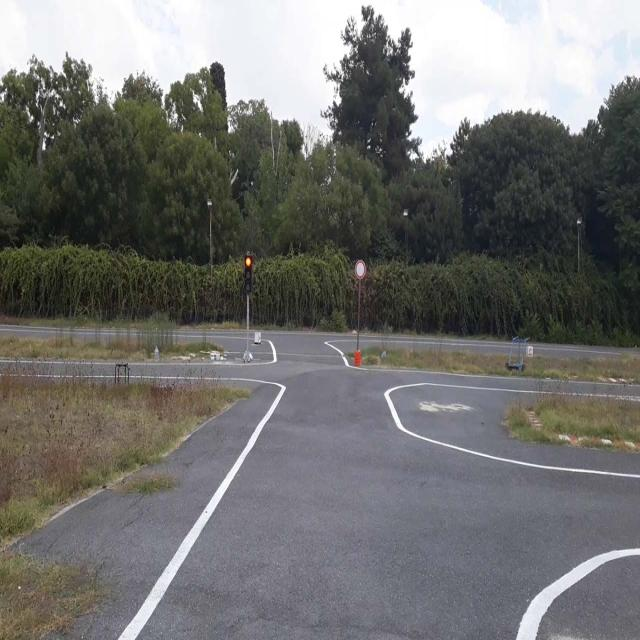kirmizi: (244, 255, 252, 293)
